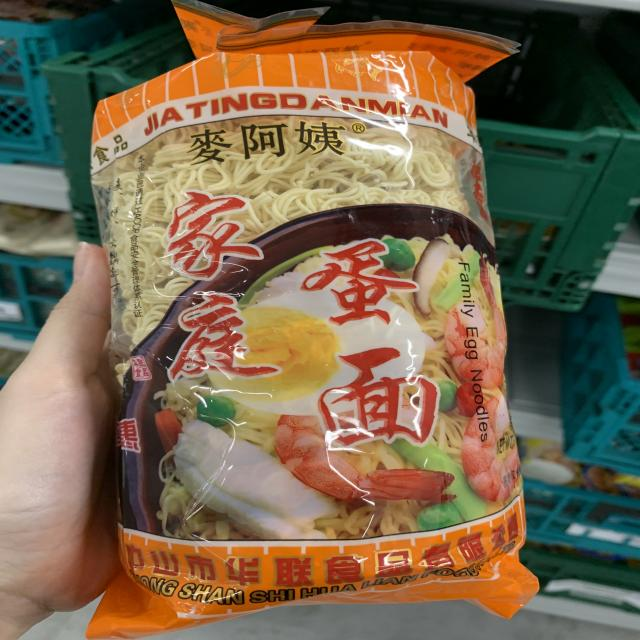object_name: (93, 48, 506, 608)
